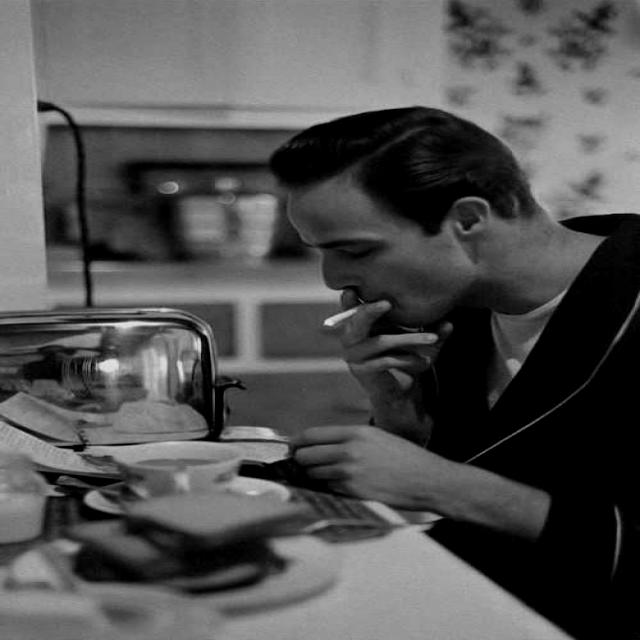Smooking: (308, 298, 384, 330)
